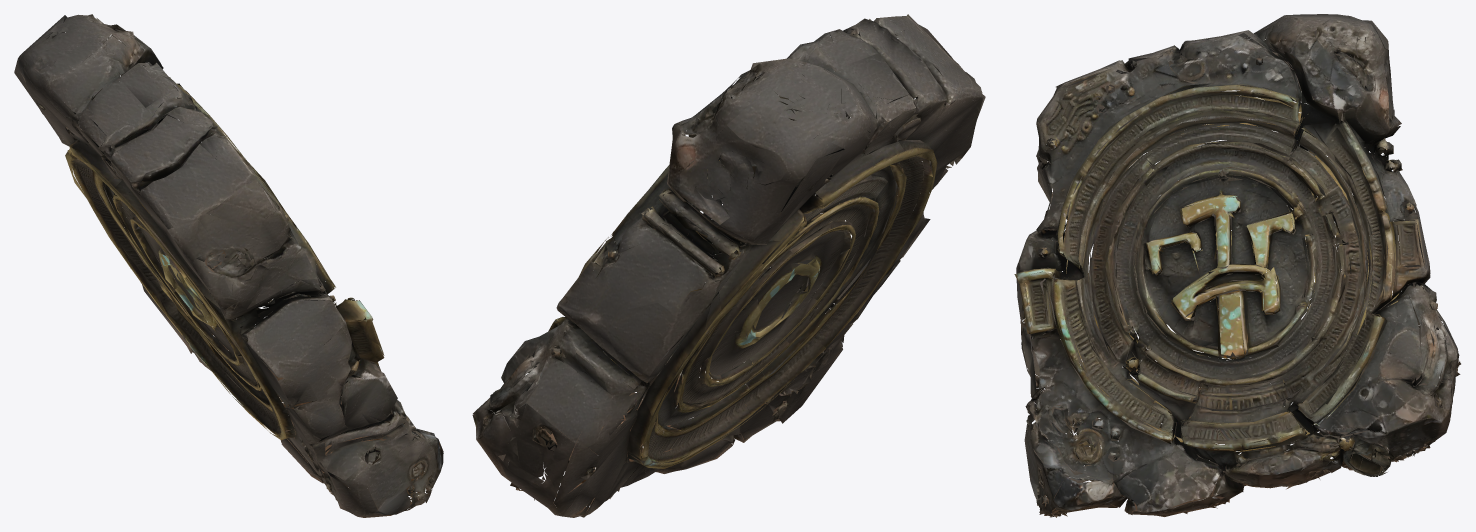
The model's file is pro_resonant_glyph_monolith_LOD1.glb.
3 renders of one model, left to right at view 1: azimuth 30°, elevation 25°; view 2: azimuth 150°, elevation 25°; view 3: azimuth 270°, elevation 25°, orthographic. The views are drawn at different scales.
Parts seen in each view (by area): view 1: tripo_node_a77fbda4-d66e-44b2-bb0c-b2b75267498e; view 2: tripo_node_a77fbda4-d66e-44b2-bb0c-b2b75267498e; view 3: tripo_node_a77fbda4-d66e-44b2-bb0c-b2b75267498e.
Part boxes in pixels (bbox=[...]): tripo_node_a77fbda4-d66e-44b2-bb0c-b2b75267498e: bbox=[14, 14, 443, 517]; tripo_node_a77fbda4-d66e-44b2-bb0c-b2b75267498e: bbox=[472, 14, 985, 517]; tripo_node_a77fbda4-d66e-44b2-bb0c-b2b75267498e: bbox=[1014, 14, 1460, 517].
Size of the model in its own units: 0.7129 by 1 by 0.9746.
1 material, 1 textured.
